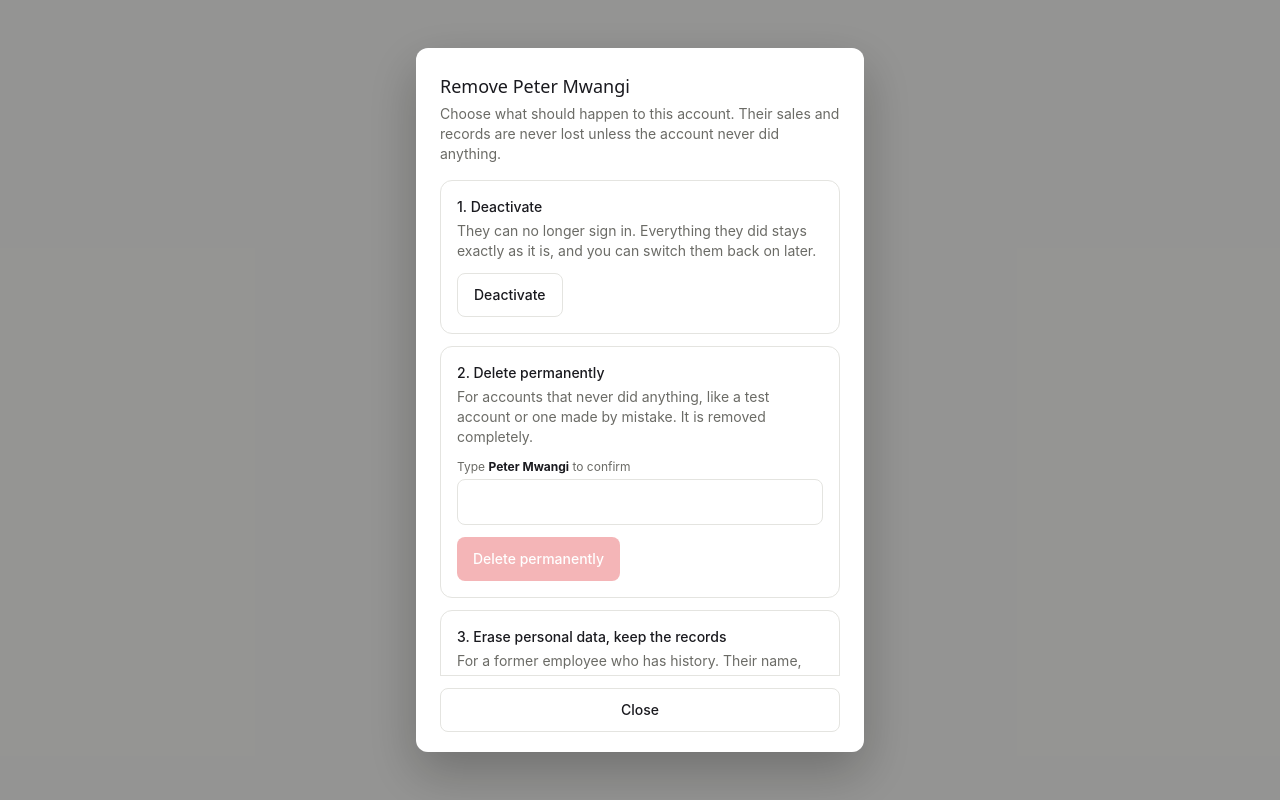
RemoveAccountSheet › shows the server's reason when something fails
Type "Peter Mwangi" into the field. click: (640, 502)
box: [457,479,823,525]
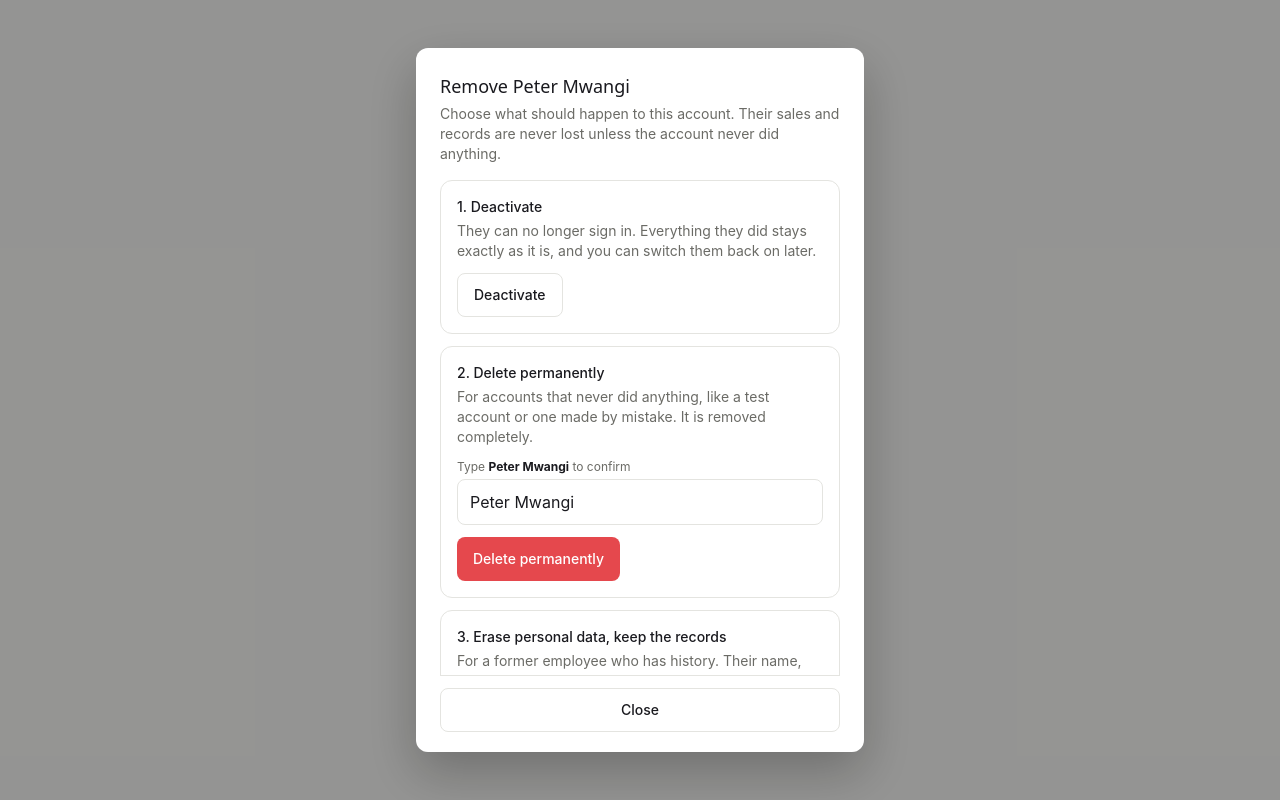
Click the button "Delete permanently". click: (538, 559)
box: [457,537,620,581]
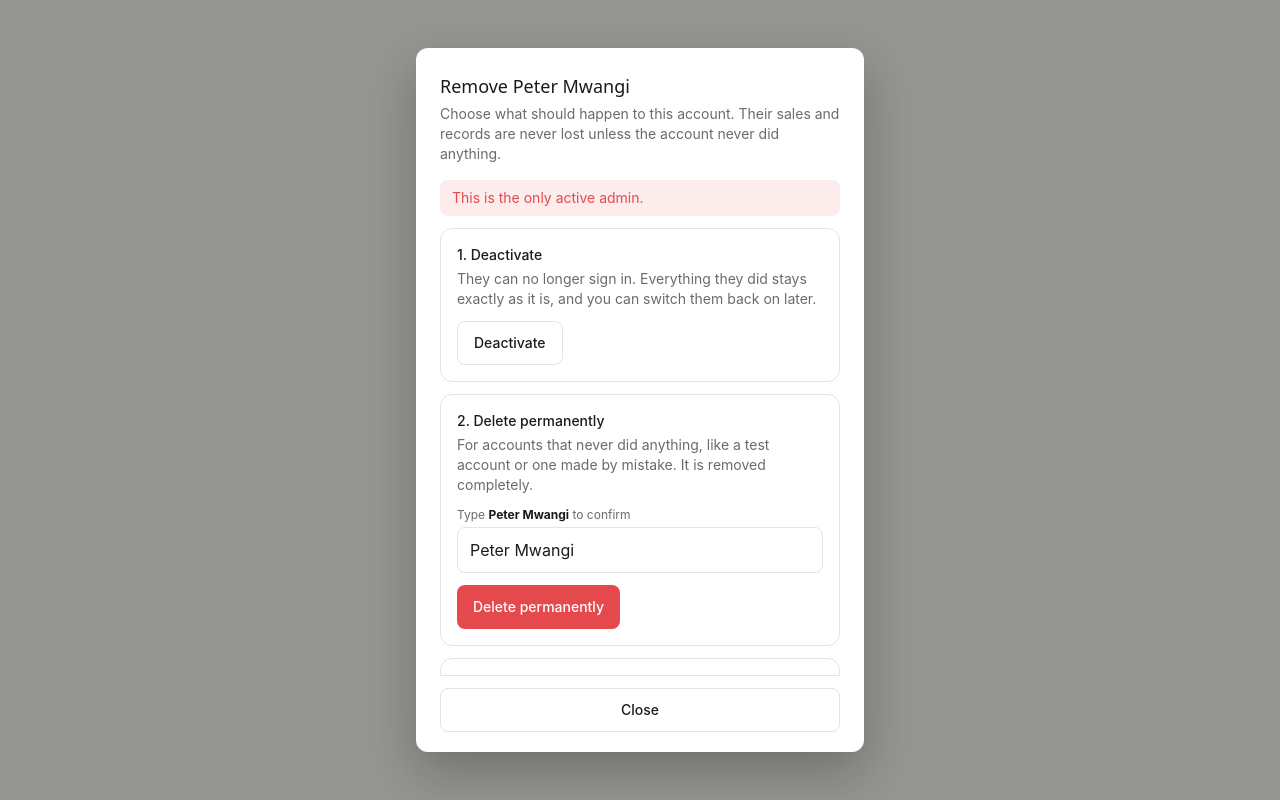
Expected: the message shows "only active admin", [452,189,644,206]
